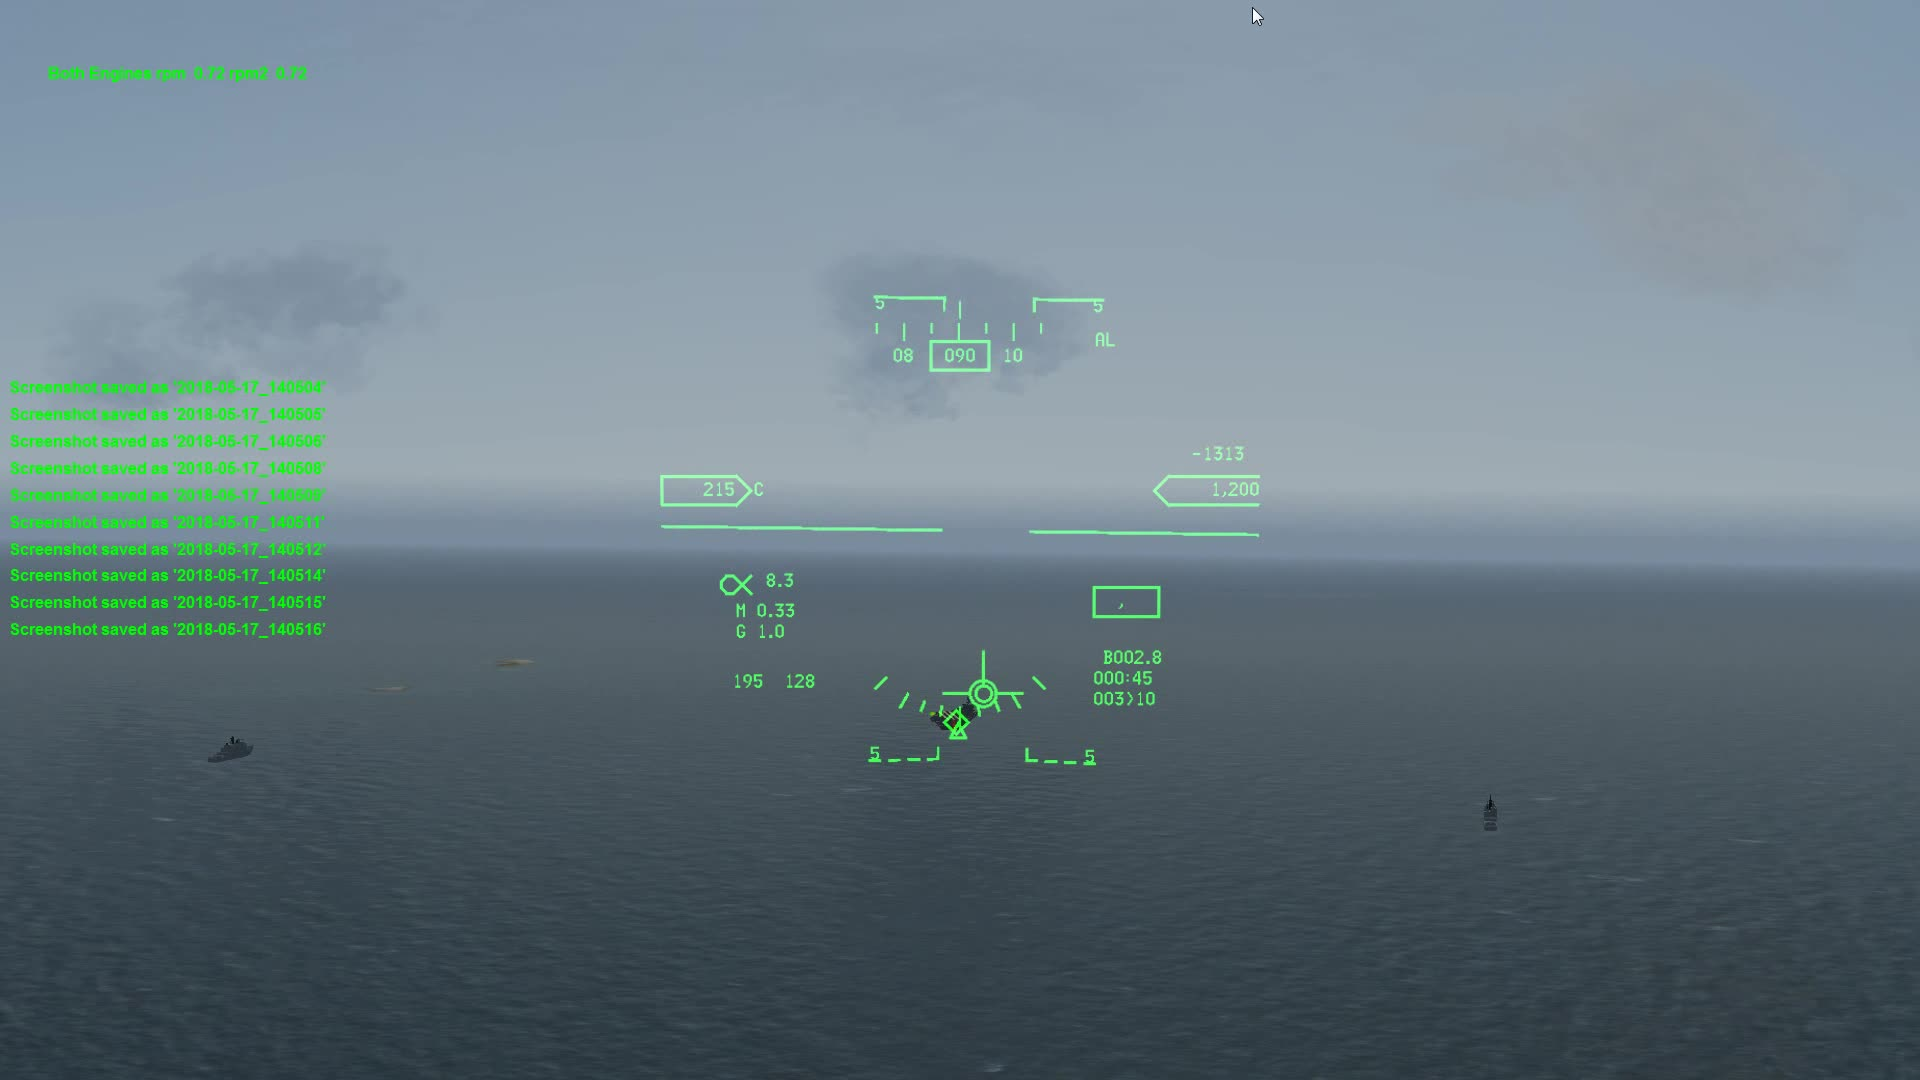speed vector: (914, 644, 1030, 712)
